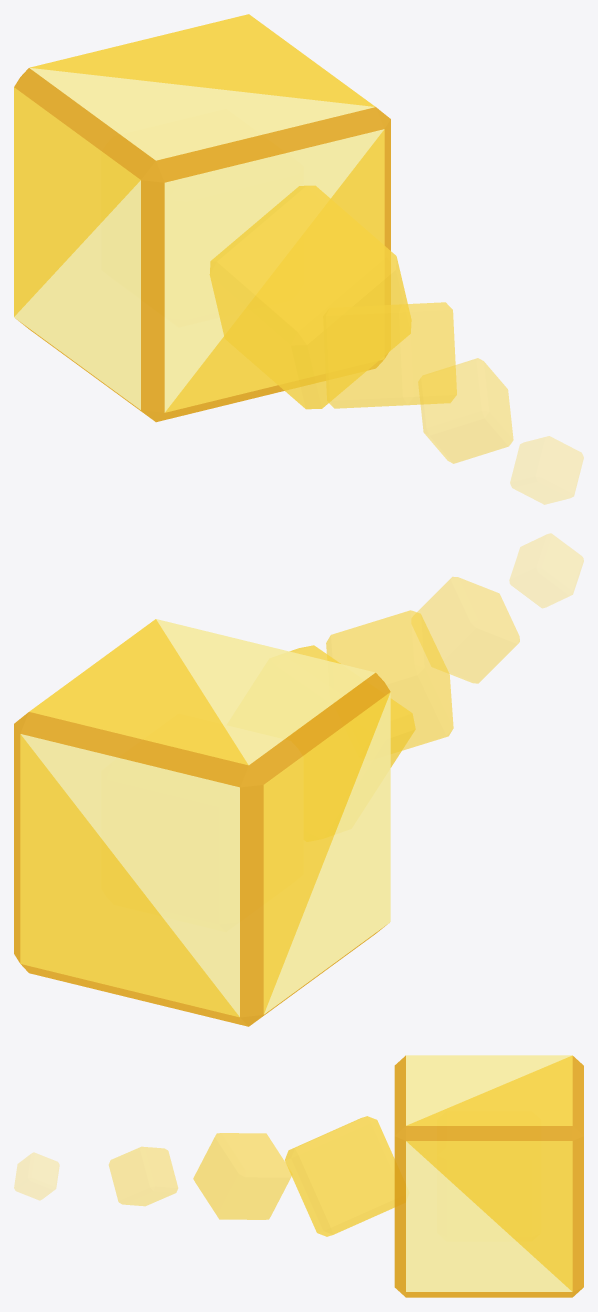
The model's file is lantern_staff_bolt.glb.
3 renders of one model, top to bottom at view 1: azimuth 30°, elevation 25°; view 2: azimuth 150°, elevation 25°; view 3: azimuth 270°, elevation 25°, orthographic. The views are drawn at different scales.
Parts seen in each view (by area): view 1: Bolt_Shell, Tail_Cube1, Tail_Cube2, Tail_Cube3, Tail_Cube4; view 2: Bolt_Shell, Tail_Cube2, Tail_Cube3, Tail_Cube4, Tail_Cube1; view 3: Bolt_Shell, Tail_Cube1, Tail_Cube2, Tail_Cube3, Tail_Cube4.
Part boxes in pixels (x1,y1,x2,y2): Bolt_Shell: [14, 14, 390, 422]; Tail_Cube1: [209, 185, 411, 409]; Tail_Cube2: [323, 302, 456, 408]; Tail_Cube3: [418, 358, 513, 463]; Tail_Cube4: [510, 436, 583, 504]; Bolt_Shell: [14, 619, 390, 1026]; Tail_Cube2: [326, 610, 453, 750]; Tail_Cube3: [412, 577, 519, 683]; Tail_Cube4: [509, 533, 583, 607]; Tail_Cube1: [289, 645, 415, 767]; Bolt_Shell: [394, 1055, 583, 1297]; Tail_Cube1: [284, 1116, 394, 1236]; Tail_Cube2: [193, 1133, 292, 1219]; Tail_Cube3: [109, 1146, 177, 1206]; Tail_Cube4: [14, 1152, 59, 1200].
Bounding box in the file's own units: 0.2 × 0.2 × 0.6017.
